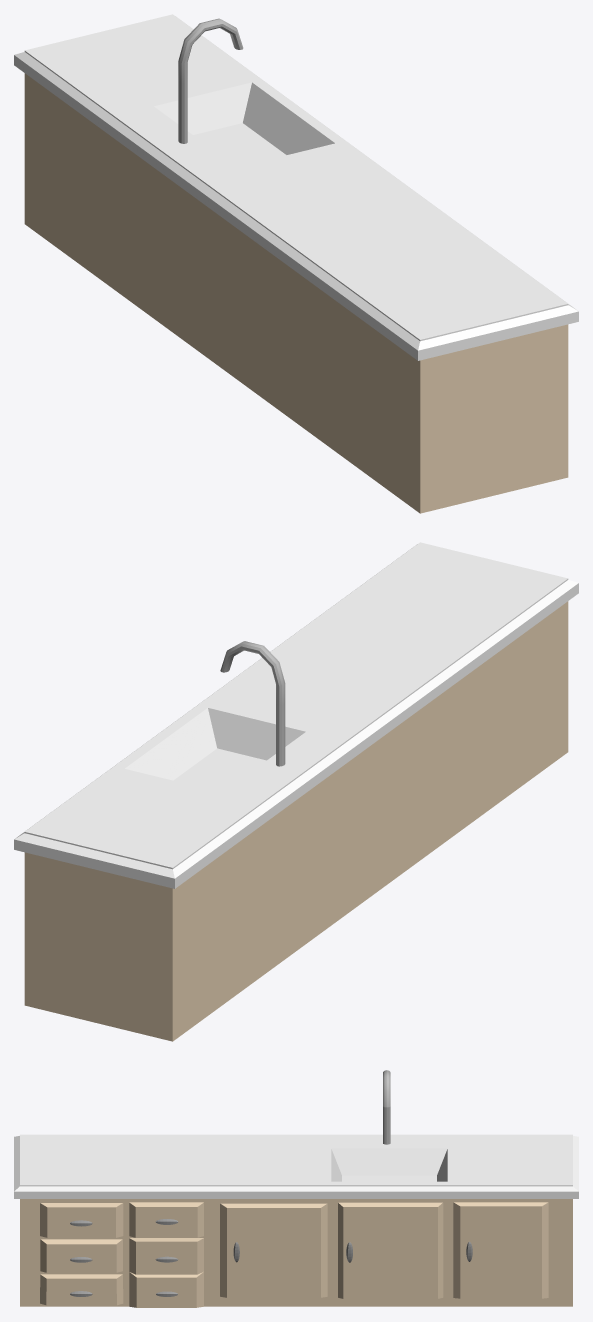
Rendered from BalcaoCafe.fbx.
3 views of the same model, one above another, from view 1: azimuth 30°, elevation 25°; view 2: azimuth 150°, elevation 25°; view 3: azimuth 270°, elevation 25° (orthographic). The views are drawn at different scales.
Visible parts, largest first — view 1: BalcaoCafe; view 2: BalcaoCafe; view 3: BalcaoCafe.
Part boxes in pixels (left/top/right/bottom): BalcaoCafe: left=14, top=14, right=578, bottom=513; BalcaoCafe: left=14, top=542, right=578, bottom=1041; BalcaoCafe: left=14, top=1070, right=578, bottom=1307.
Bounding box in the file's own units: 1.13 × 1.85 × 4.72.
